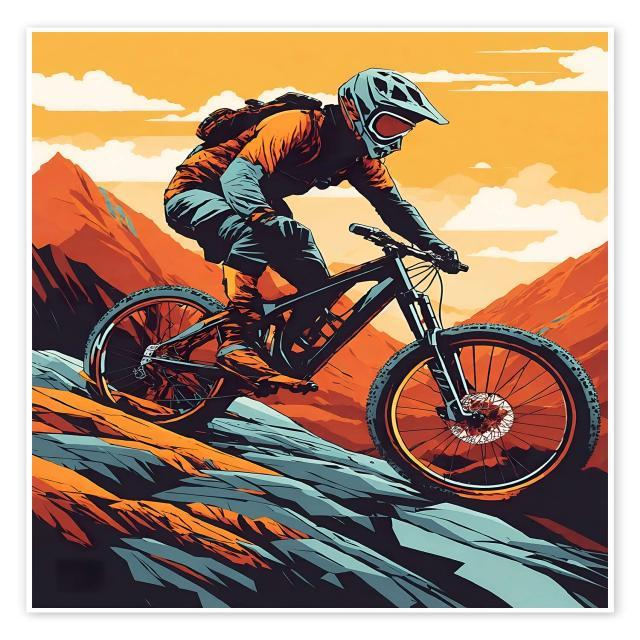bike: (81, 220, 601, 502)
